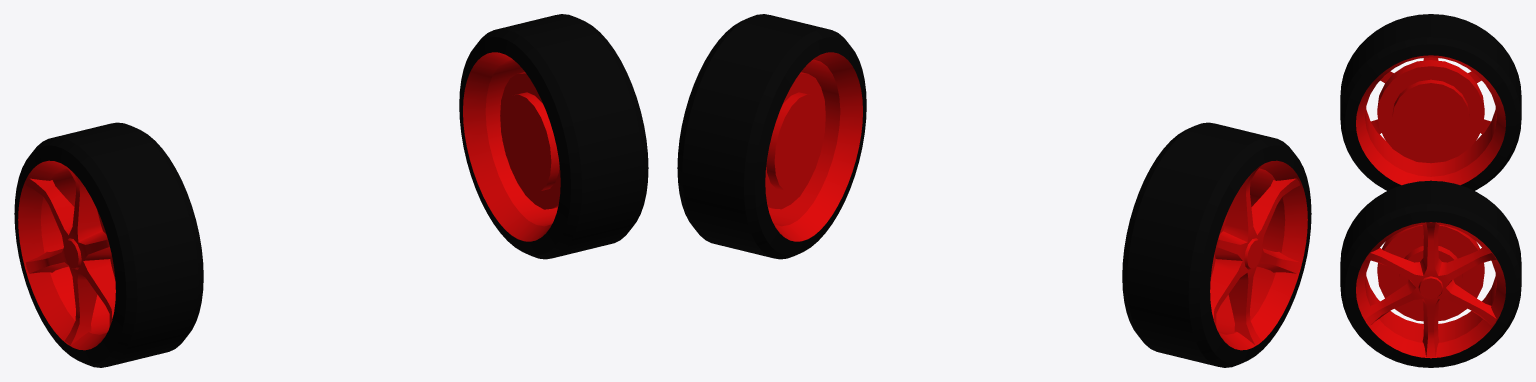
Rendered from WheelsFront_0.fbx.
The picture shows the model from 3 angles, left to right: view 1: azimuth 30°, elevation 25°; view 2: azimuth 150°, elevation 25°; view 3: azimuth 270°, elevation 25°; orthographic projection. The views are drawn at different scales.
Visible parts, largest first — view 1: WheelsFront; view 2: WheelsFront; view 3: WheelsFront.
Part boxes in pixels (x1,y1,x2,y2): WheelsFront: [14, 14, 648, 367]; WheelsFront: [677, 14, 1311, 367]; WheelsFront: [1340, 14, 1521, 367].
Size of the model in its own units: 1.74 by 0.6723 by 0.6723.
